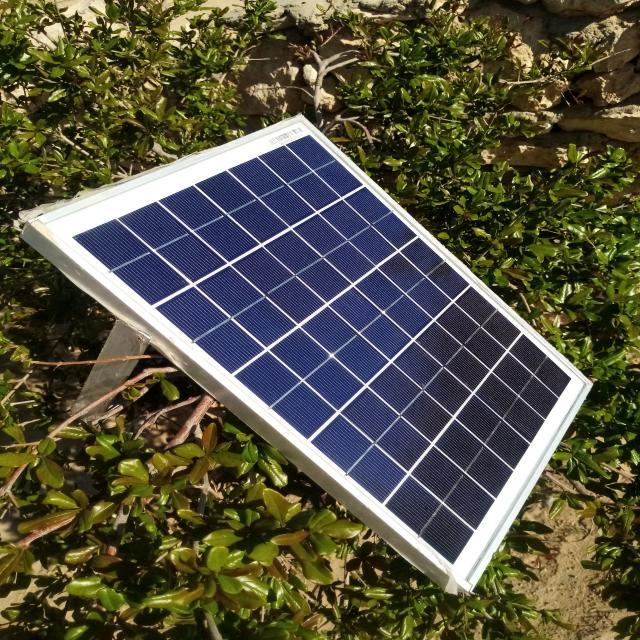no faulty: (35, 115, 603, 592)
